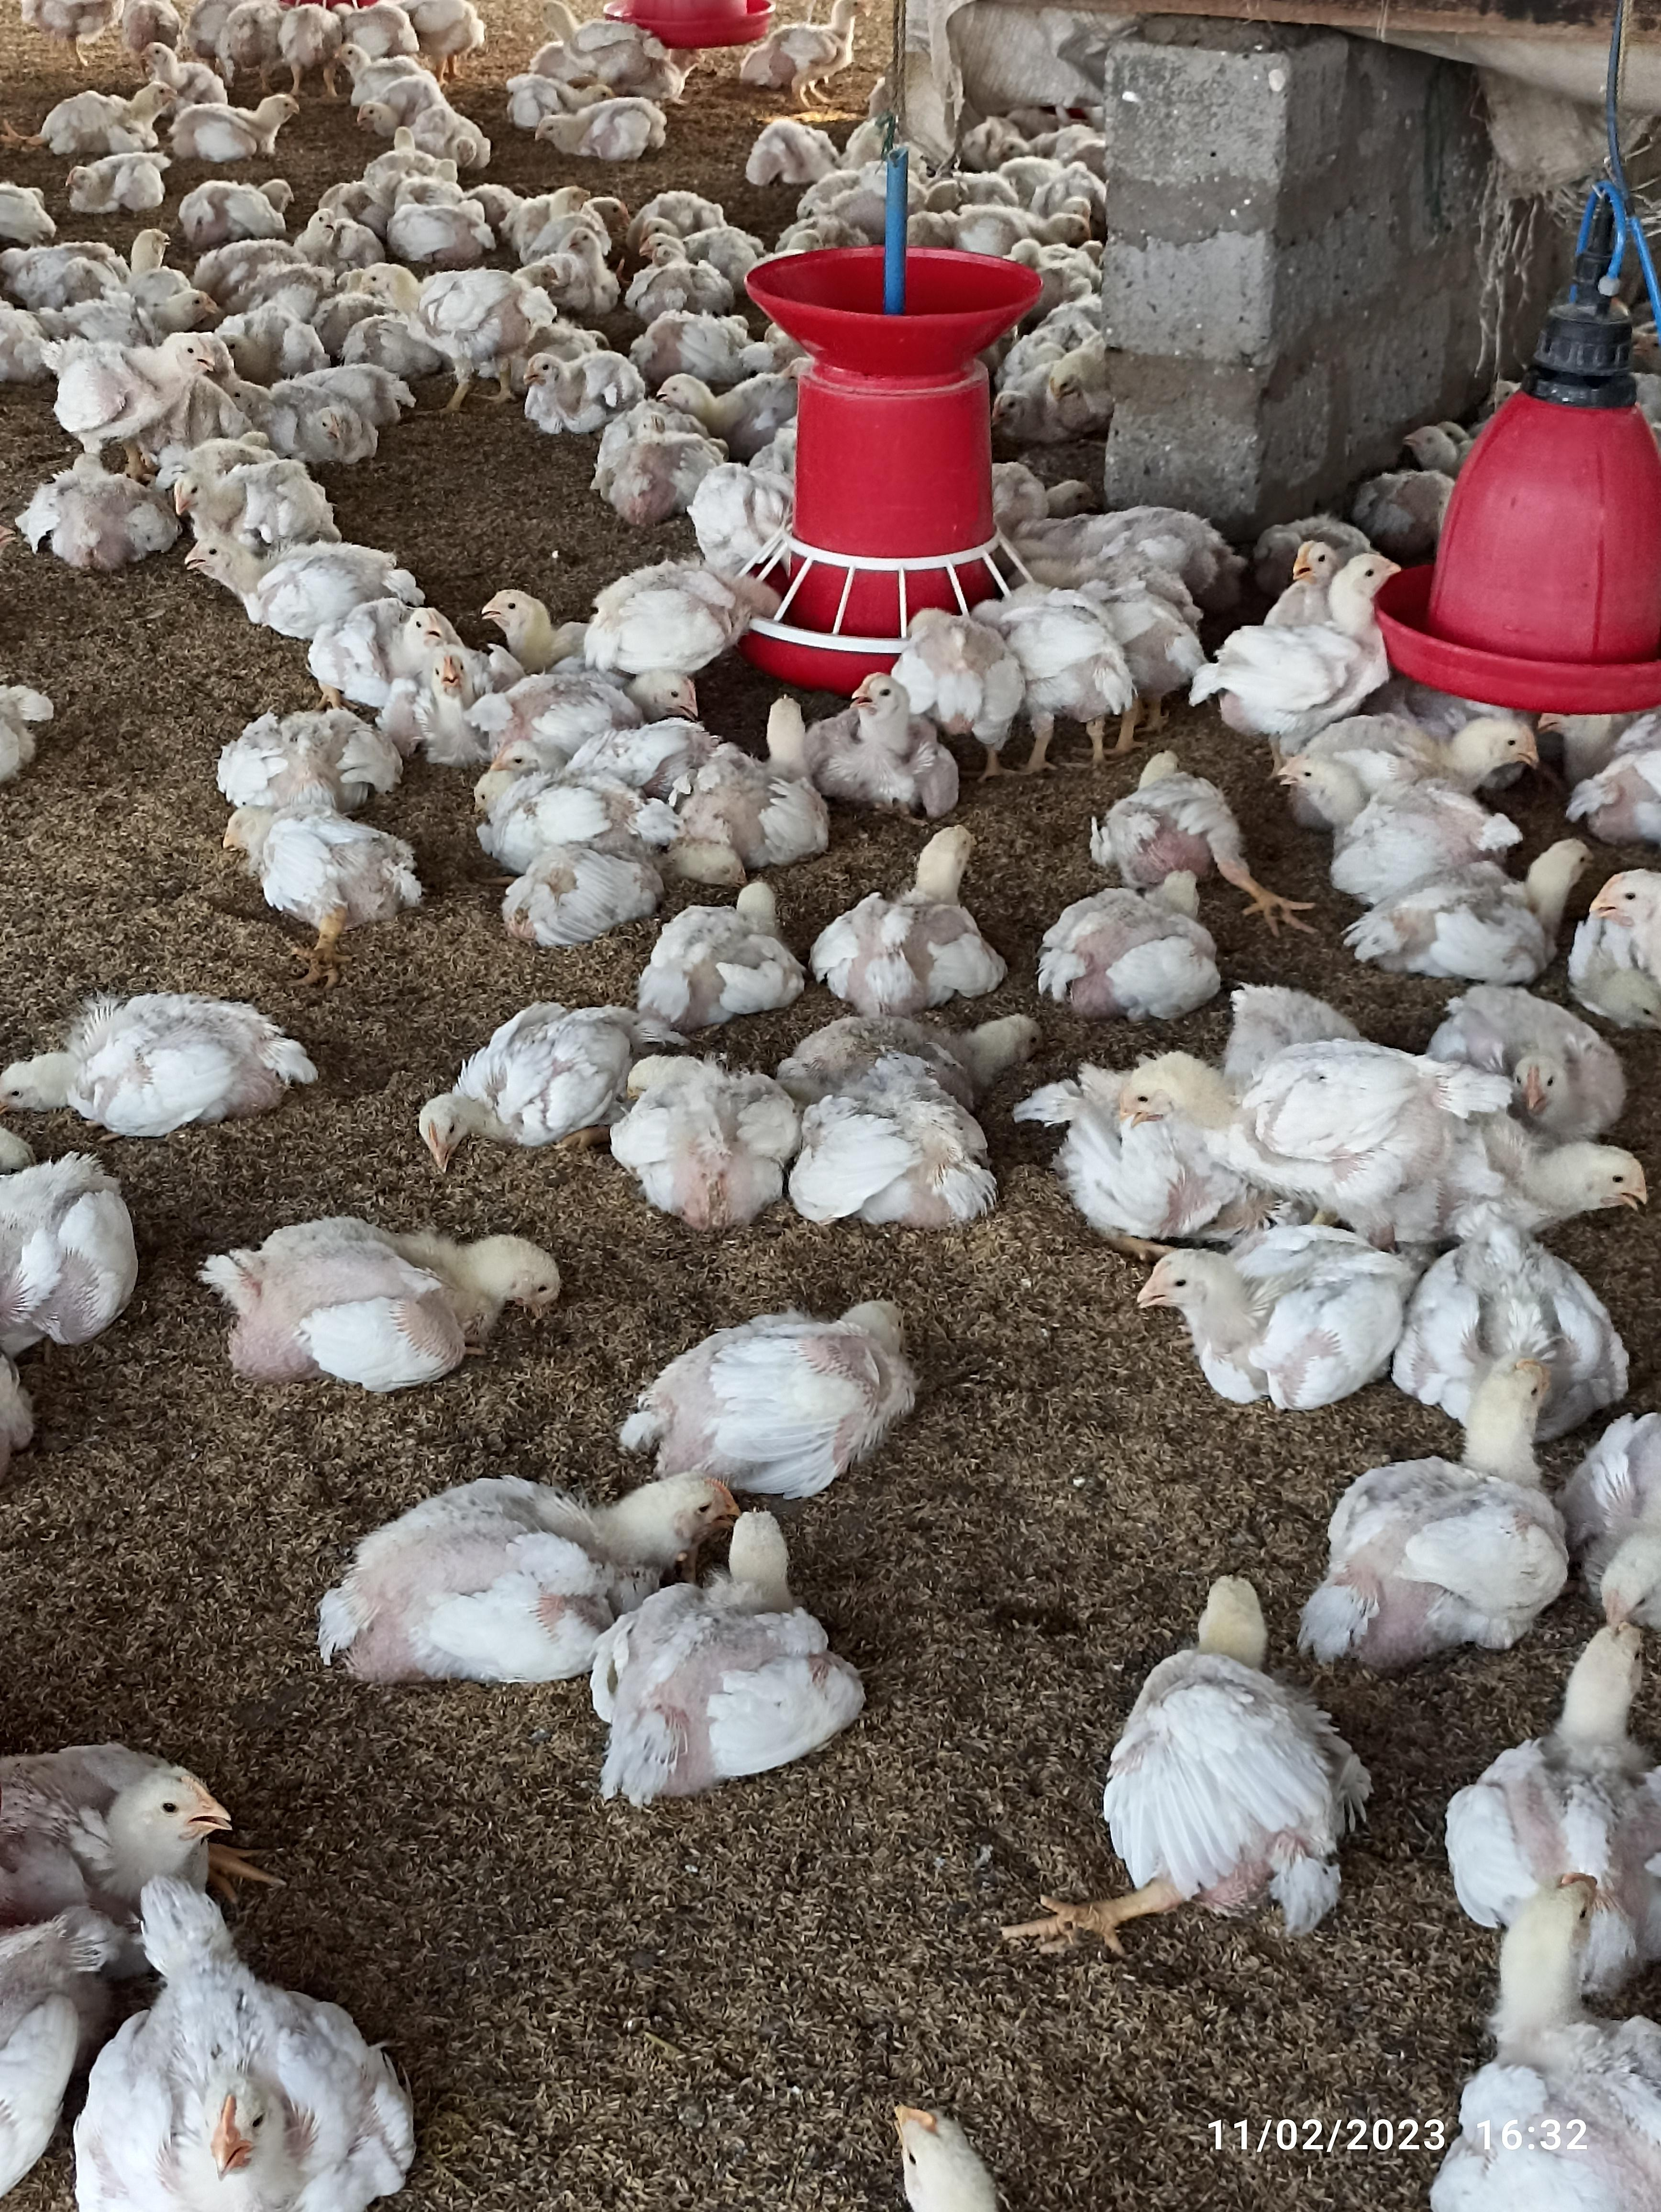Pollos: (1108, 1572, 1364, 1901), (1324, 1355, 1560, 1673), (1118, 1041, 1520, 1207), (609, 1500, 832, 1793), (623, 1282, 919, 1500), (215, 1214, 558, 1392), (1136, 1228, 1392, 1396), (1202, 543, 1408, 745), (417, 1001, 646, 1178), (12, 1724, 225, 1912), (0, 998, 302, 1127), (789, 1052, 988, 1225), (1368, 820, 1581, 980), (829, 816, 1000, 1005), (612, 1041, 789, 1221), (1031, 864, 1227, 1015), (211, 806, 436, 932), (174, 527, 407, 633), (489, 712, 703, 816), (52, 314, 218, 448), (804, 675, 974, 799), (1293, 759, 1483, 864), (359, 253, 522, 372), (656, 886, 789, 1026), (497, 853, 653, 940), (518, 340, 630, 431), (478, 581, 595, 665)
